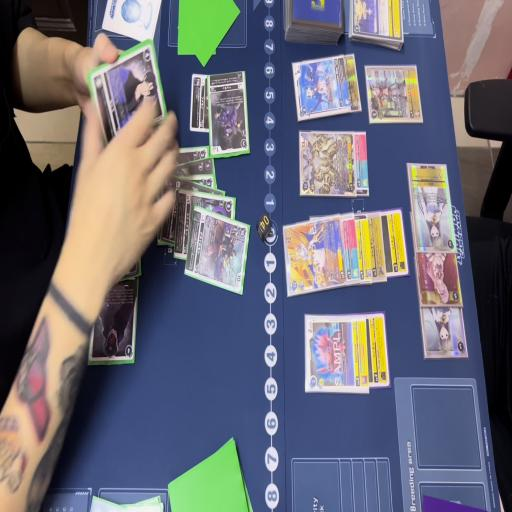card: (88, 38, 166, 132), (183, 215, 258, 293), (304, 312, 370, 397), (406, 158, 459, 254), (88, 275, 141, 368), (156, 183, 228, 249), (280, 216, 343, 290), (365, 58, 424, 131), (171, 198, 238, 262), (288, 53, 348, 124), (208, 66, 252, 160), (299, 129, 354, 200), (419, 302, 470, 358), (416, 252, 463, 310), (352, 0, 402, 45), (381, 204, 407, 278), (368, 310, 390, 391), (367, 208, 385, 288), (191, 70, 211, 134), (355, 210, 371, 286), (356, 129, 372, 202), (343, 48, 360, 116), (170, 157, 220, 180), (344, 211, 358, 292), (172, 141, 212, 165), (170, 173, 216, 185)
